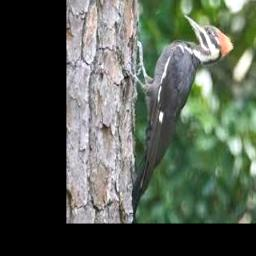Woodpecker: (130, 15, 234, 221)
